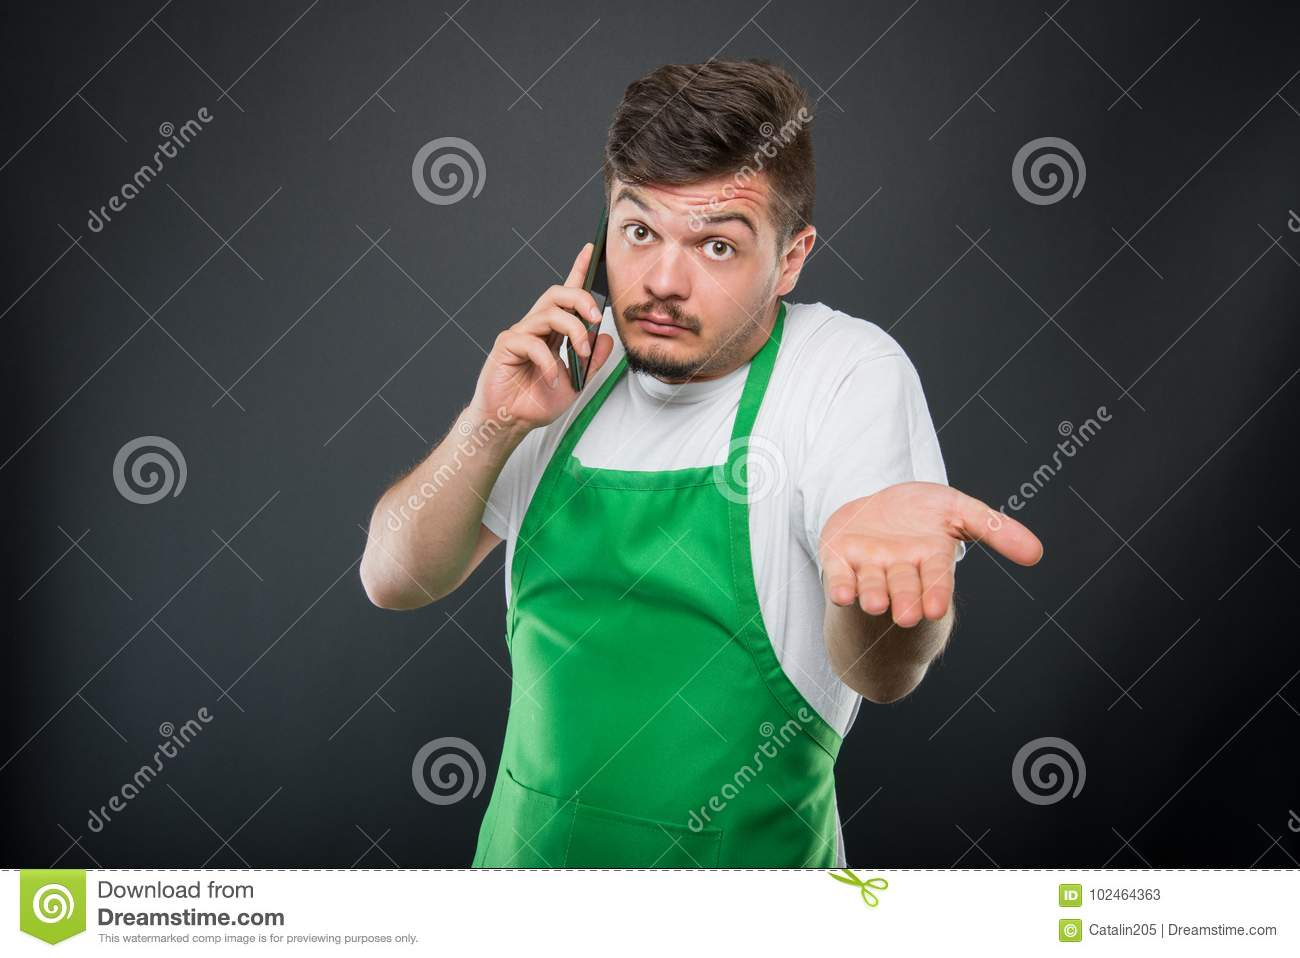phone: (565, 211, 610, 399)
talk: (475, 186, 764, 432)
